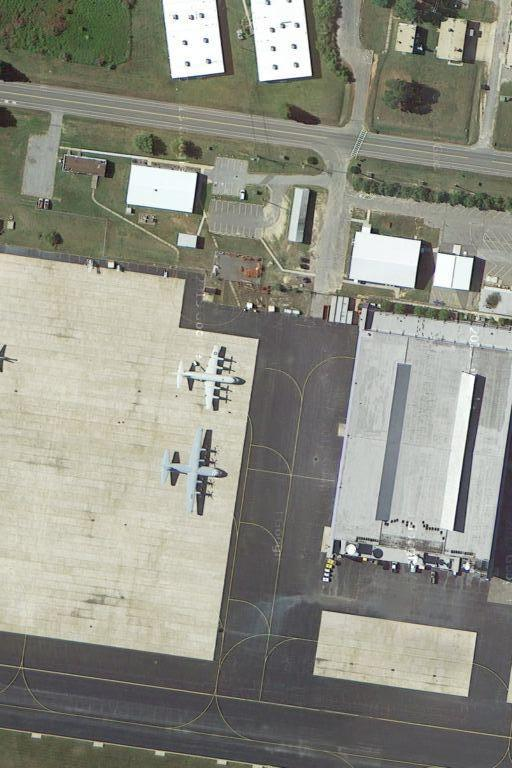C-130: (158, 426, 231, 515), (174, 339, 249, 417)
